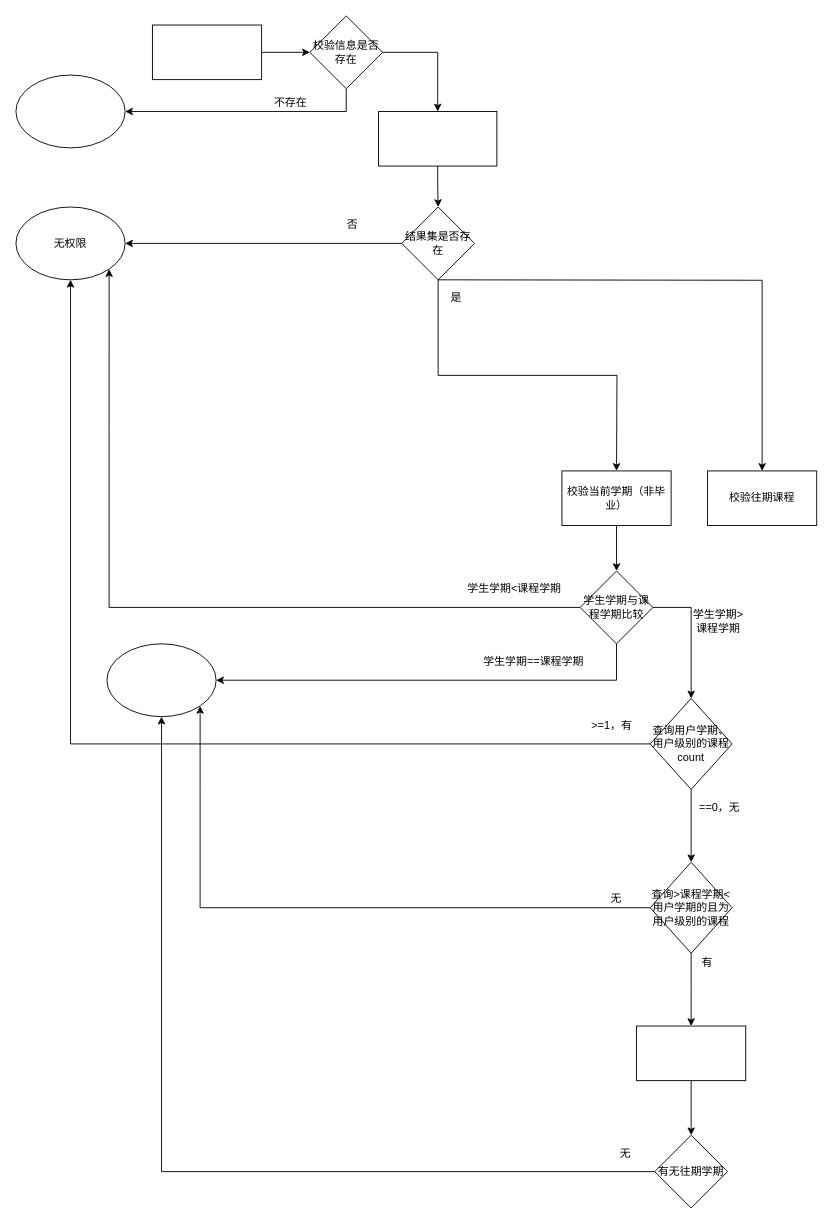
Some shapes in this 833 by 1224 pixel diagram are drawn without their labels. The box of each missing label's shape, as (x1, y1, x2, y2) in pixels:
无课程: (15, 74, 125, 148)
查询用户所有未退款/退学、且级别为课程级别 的学期信息: (378, 111, 497, 166)
校验往期课程学期: (636, 1025, 746, 1081)
根据courseId查询课程信息: (152, 24, 262, 80)
课程详情: (106, 643, 216, 717)
